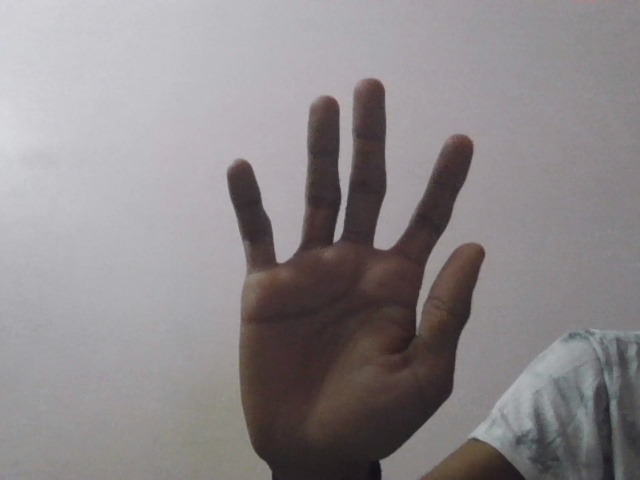hello: (208, 63, 490, 479)
